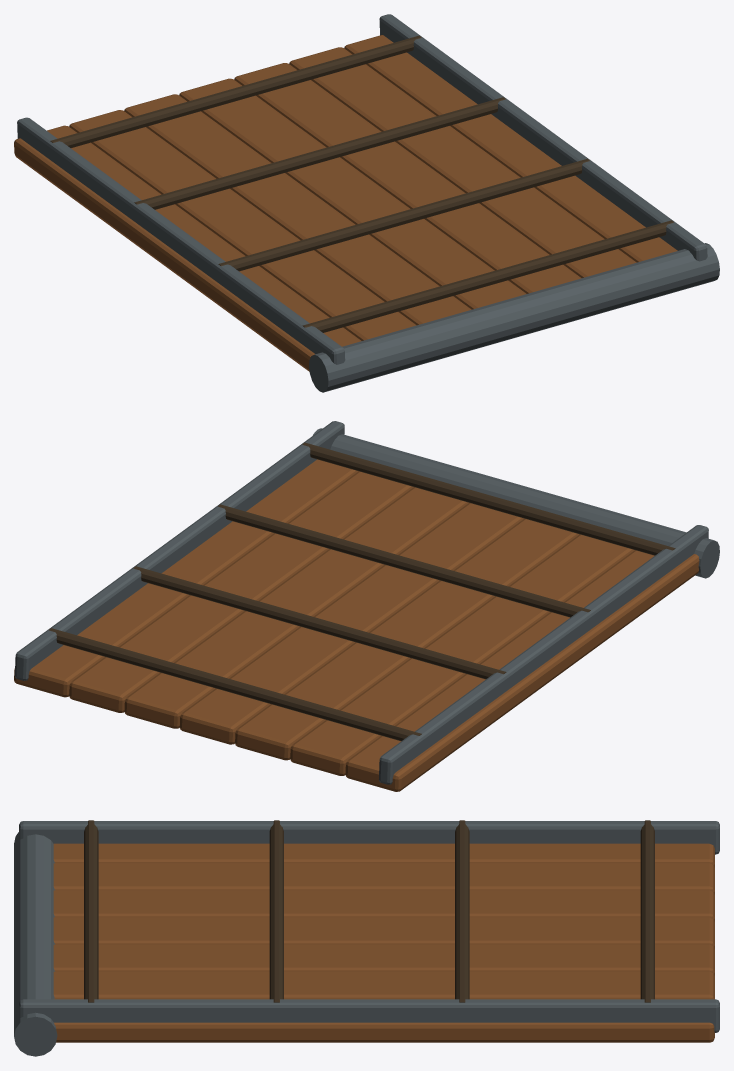
The model's file is boarding-board.glb.
3 renders of one model, top to bottom at view 1: azimuth 30°, elevation 25°; view 2: azimuth 150°, elevation 25°; view 3: azimuth 270°, elevation 25°, orthographic. The views are drawn at different scales.
Parts seen in each view (by area): view 1: detach_hinge, Individual oak plank 2, Individual oak plank 6, Individual oak plank 4, Individual oak plank 3, Individual oak plank 5, Individual oak plank 1, Individual oak plank 7, Port iron rail, Starboard iron rail, Cross lashing -1.35, Cross lashing -0.45 (+2 smaller); view 2: Individual oak plank 4, Individual oak plank 6, Individual oak plank 5, Individual oak plank 2, Individual oak plank 3, Individual oak plank 1, Individual oak plank 7, Port iron rail, Starboard iron rail, detach_hinge, Cross lashing 1.35, Cross lashing 0.45 (+2 smaller); view 3: Individual oak plank 4, Individual oak plank 2, Individual oak plank 3, Individual oak plank 5, Individual oak plank 6, Starboard iron rail, Individual oak plank 7, Port iron rail, Individual oak plank 1, detach_hinge, Cross lashing -1.35, Cross lashing 0.45 (+2 smaller).
Boxes of the visible parts, x1=… form: detach_hinge: x1=309, y1=243, x2=719, y2=392; Individual oak plank 2: x1=69, y1=110, x2=416, y2=340; Individual oak plank 6: x1=289, y1=47, x2=636, y2=277; Individual oak plank 4: x1=179, y1=78, x2=526, y2=309; Individual oak plank 3: x1=124, y1=94, x2=471, y2=325; Individual oak plank 5: x1=234, y1=63, x2=581, y2=293; Individual oak plank 1: x1=14, y1=125, x2=361, y2=371; Individual oak plank 7: x1=344, y1=35, x2=677, y2=262; Port iron rail: x1=17, y1=117, x2=345, y2=364; Starboard iron rail: x1=379, y1=14, x2=707, y2=261; Cross lashing -1.35: x1=302, y1=220, x2=673, y2=332; Cross lashing -0.45: x1=218, y1=158, x2=589, y2=271; Individual oak plank 4: x1=179, y1=503, x2=523, y2=744; Individual oak plank 6: x1=69, y1=471, x2=413, y2=712; Individual oak plank 5: x1=124, y1=487, x2=468, y2=728; Individual oak plank 2: x1=290, y1=534, x2=634, y2=775; Individual oak plank 3: x1=235, y1=518, x2=578, y2=760; Individual oak plank 1: x1=345, y1=550, x2=699, y2=791; Individual oak plank 7: x1=14, y1=459, x2=358, y2=697; Port iron rail: x1=379, y1=525, x2=708, y2=784; Starboard iron rail: x1=14, y1=421, x2=344, y2=680; detach_hinge: x1=313, y1=428, x2=719, y2=578; Cross lashing 1.35: x1=49, y1=628, x2=421, y2=741; Cross lashing 0.45: x1=133, y1=566, x2=506, y2=679; Individual oak plank 4: x1=53, y1=917, x2=714, y2=948; Individual oak plank 2: x1=53, y1=863, x2=714, y2=894; Individual oak plank 3: x1=53, y1=890, x2=714, y2=921; Individual oak plank 5: x1=53, y1=944, x2=714, y2=975; Individual oak plank 6: x1=53, y1=971, x2=714, y2=999; Starboard iron rail: x1=19, y1=999, x2=719, y2=1032; Individual oak plank 7: x1=54, y1=998, x2=714, y2=1042; Port iron rail: x1=19, y1=821, x2=719, y2=854; Individual oak plank 1: x1=53, y1=843, x2=714, y2=867; detach_hinge: x1=14, y1=832, x2=57, y2=1056; Cross lashing -1.35: x1=84, y1=820, x2=98, y2=1002; Cross lashing 0.45: x1=455, y1=820, x2=469, y2=1002.
Size of the model in its own units: 2.43 by 0.3509 by 3.43.
